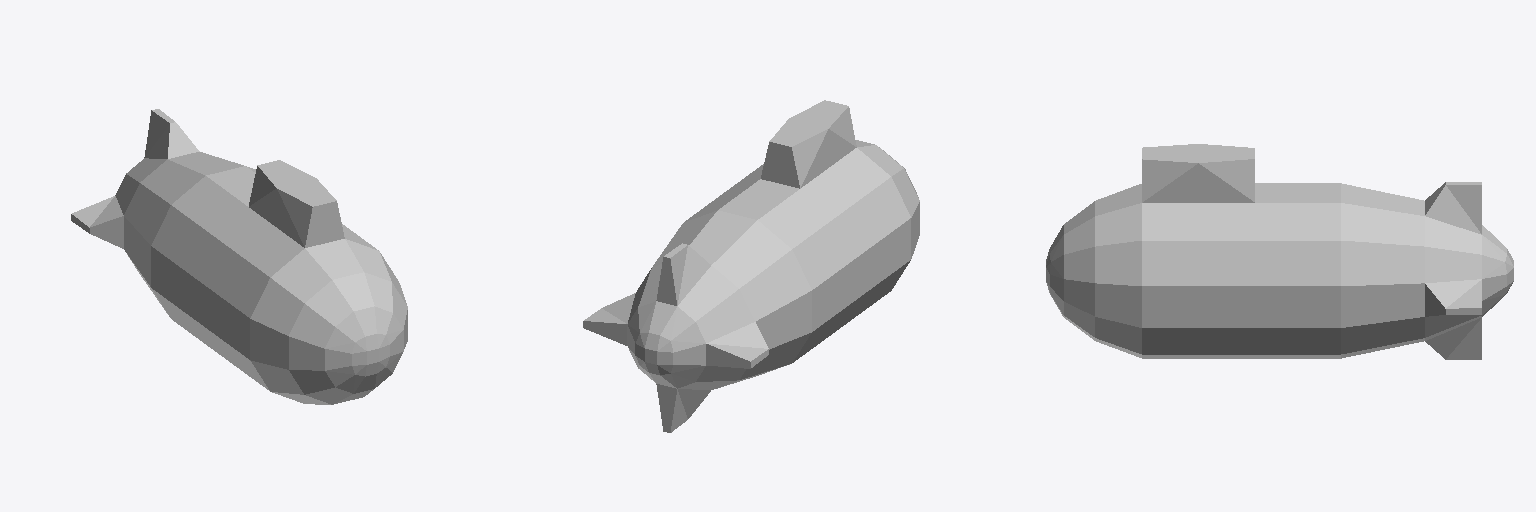
Rendered from cutesub.obj.
3 views of the same model, side by side, from view 1: azimuth 30°, elevation 25°; view 2: azimuth 150°, elevation 25°; view 3: azimuth 270°, elevation 25° (orthographic).
Parts seen in each view (by area): view 1: sub; view 2: sub; view 3: sub.
Part boxes in pixels (x1,y1,x2,y2): sub: (71, 109, 407, 404); sub: (583, 100, 919, 432); sub: (1046, 144, 1513, 359).
Size of the model in its own units: 2.17 by 2.54 by 5.26.